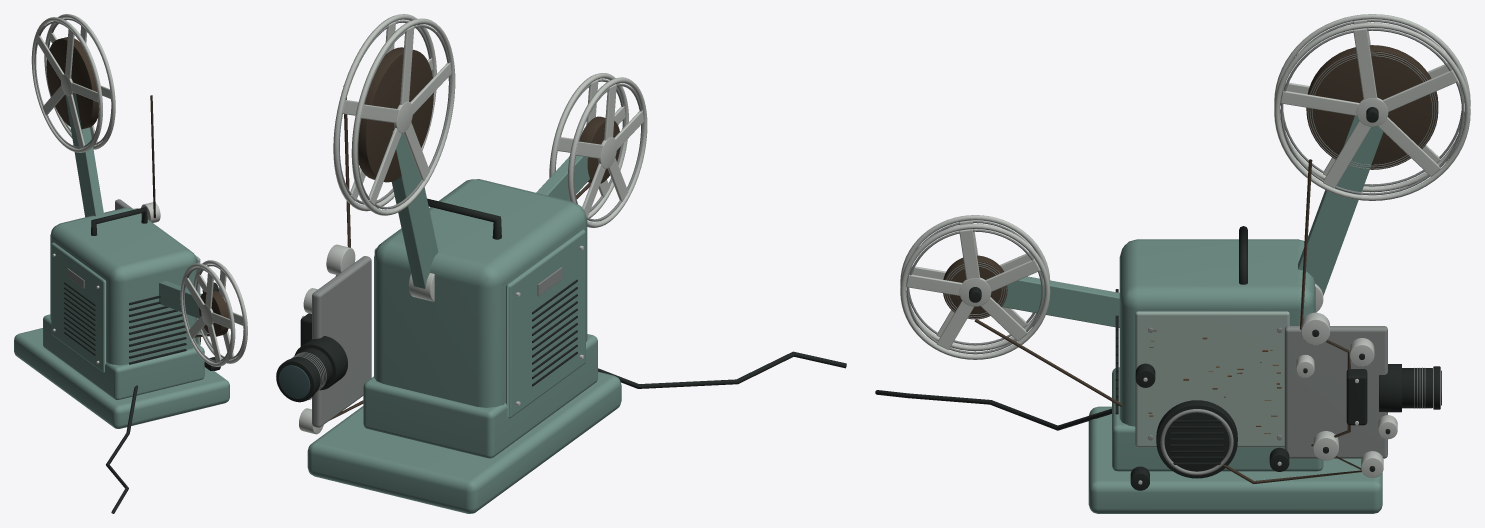
File: projector_v09.glb
3 renders of one model, left to right at view 1: azimuth 30°, elevation 25°; view 2: azimuth 150°, elevation 25°; view 3: azimuth 270°, elevation 25°, orthographic. The views are drawn at different scales.
Parts seen in each view (by area): view 1: ProjectorEnamel, ReelAlloy.002, Bakelite.002, ReelAlloy, FilmStock.001, MechanismSteel.001, MechanismSteel.002, FilmStock.002, FilmStock, ReelAlloy.001, MechanismSteel; view 2: ProjectorEnamel, ReelAlloy.002, MechanismSteel, Bakelite.002, ReelAlloy, FilmStock.001, ReelAlloy.001, MechanismSteel.001, MechanismSteel.002, FilmStock.002, CoatedLens, FilmStock; view 3: ProjectorEnamel, PaintEdge, Bakelite.002, ReelAlloy.002, MechanismSteel, ReelAlloy, FilmStock.001, MechanismSteel.001, ReelAlloy.001, MechanismSteel.002, FilmStock, FilmStock.002.
Part boxes in pixels (x1,y1,x2,y2): ProjectorEnamel: [14, 92, 229, 428]; ReelAlloy.002: [31, 14, 115, 152]; Bakelite.002: [64, 207, 220, 513]; ReelAlloy: [180, 260, 247, 366]; FilmStock.001: [46, 37, 98, 129]; MechanismSteel.001: [34, 18, 111, 148]; MechanismSteel.002: [183, 264, 243, 362]; FilmStock.002: [198, 290, 229, 336]; FilmStock: [150, 95, 209, 337]; ReelAlloy.001: [52, 202, 160, 363]; MechanismSteel: [67, 199, 132, 288]; ProjectorEnamel: [307, 131, 621, 513]; ReelAlloy.002: [333, 14, 455, 215]; MechanismSteel: [291, 256, 562, 427]; Bakelite.002: [276, 198, 846, 402]; ReelAlloy: [549, 73, 647, 227]; FilmStock.001: [358, 47, 433, 182]; ReelAlloy.001: [299, 244, 584, 434]; MechanismSteel.001: [339, 20, 451, 209]; MechanismSteel.002: [555, 79, 643, 221]; FilmStock.002: [579, 116, 620, 183]; CoatedLens: [279, 365, 310, 398]; FilmStock: [329, 86, 591, 420]; ProjectorEnamel: [1002, 115, 1383, 513]; PaintEdge: [1135, 311, 1289, 447]; Bakelite.002: [875, 226, 1440, 490]; ReelAlloy.002: [1274, 14, 1470, 200]; MechanismSteel: [1148, 326, 1425, 475]; ReelAlloy: [900, 215, 1050, 359]; FilmStock.001: [1306, 45, 1438, 169]; MechanismSteel.001: [1280, 19, 1464, 195]; ReelAlloy.001: [1138, 284, 1397, 484]; MechanismSteel.002: [906, 220, 1043, 354]; FilmStock: [974, 159, 1361, 484]; FilmStock.002: [943, 255, 1007, 319].
Bounding box in the file's own units: 0.6501 × 1.01 × 1.15.
